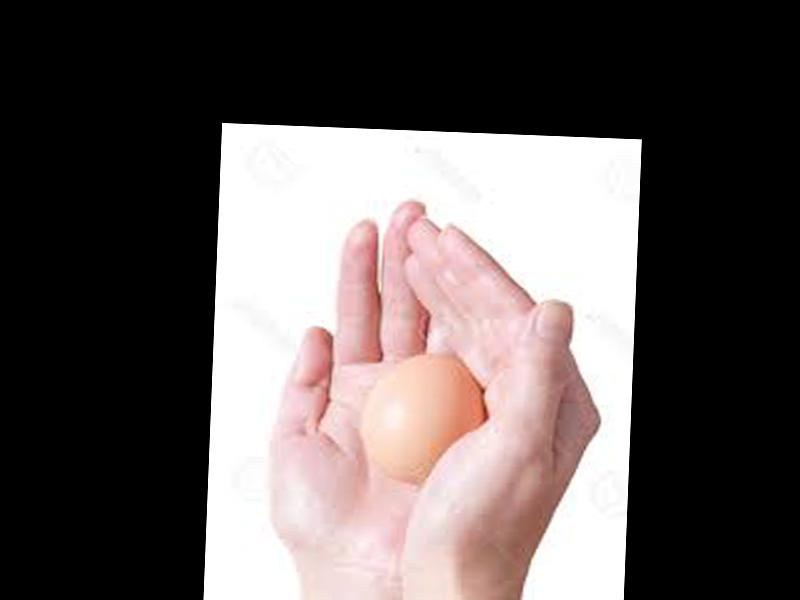Eggs: (364, 352, 484, 479)
